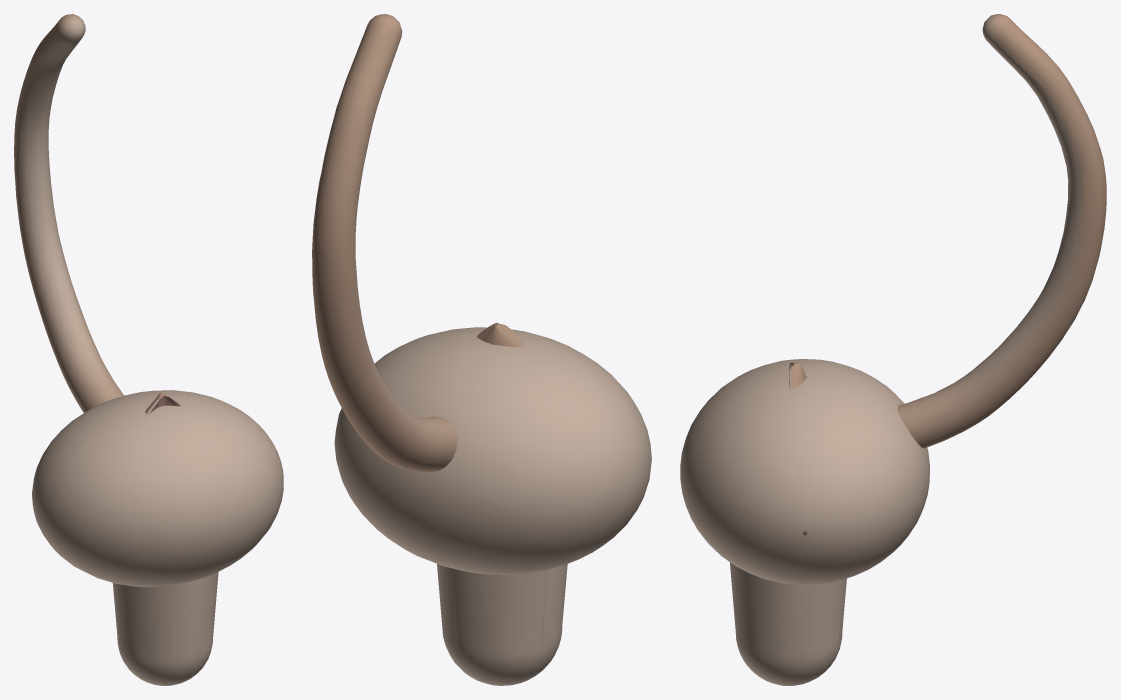
File: kitten_body.glb
3 renders of one model, left to right at view 1: azimuth 30°, elevation 25°; view 2: azimuth 150°, elevation 25°; view 3: azimuth 270°, elevation 25°, orthographic. The views are drawn at different scales.
Visible parts, largest first — view 1: pelvis__skin__hips, tail__skin__tail, thigh__skin__thigh; view 2: pelvis__skin__hips, tail__skin__tail, thigh__skin__thigh, ear__skin__ear; view 3: pelvis__skin__hips, tail__skin__tail, thigh__skin__thigh.
Part boxes in pixels (left/top/right/bottom): pelvis__skin__hips: left=32, top=390, right=283, bottom=587; tail__skin__tail: left=14, top=14, right=123, bottom=412; thigh__skin__thigh: left=112, top=572, right=218, bottom=685; pelvis__skin__hips: left=334, top=327, right=651, bottom=574; tail__skin__tail: left=312, top=14, right=457, bottom=471; thigh__skin__thigh: left=437, top=564, right=567, bottom=685; ear__skin__ear: left=477, top=323, right=523, bottom=346; pelvis__skin__hips: left=680, top=359, right=929, bottom=584; tail__skin__tail: left=897, top=14, right=1106, bottom=448; thigh__skin__thigh: left=730, top=562, right=846, bottom=685.
Size of the model in its own units: 0.072 by 0.1822 by 0.1058.
